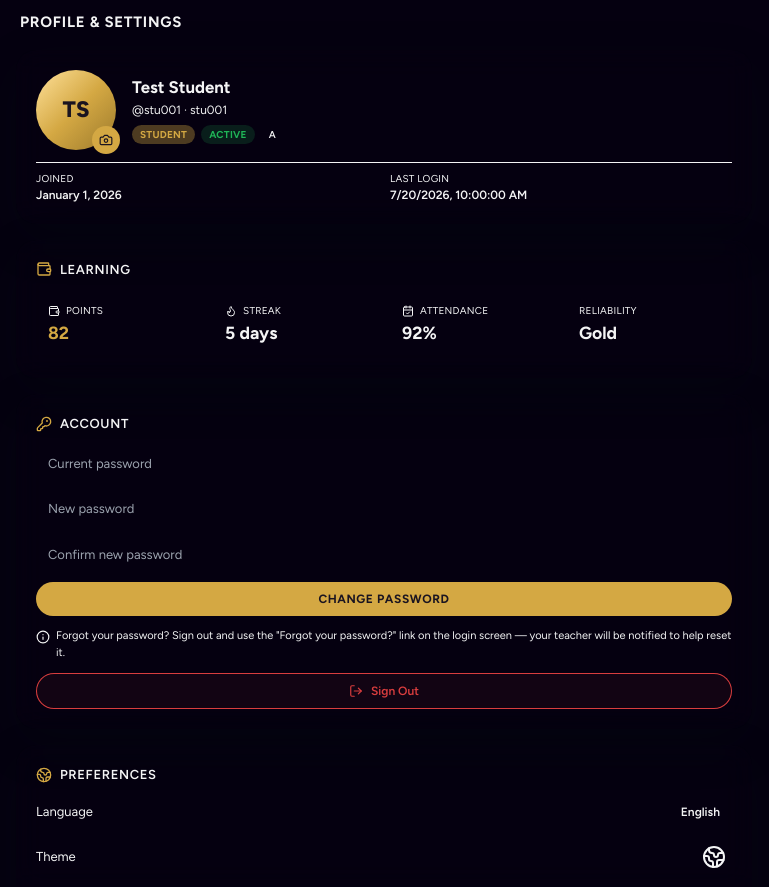
it: change-password form submits and shows a success toast on a valid match
Expected: the element with test id "profile-header-card" is shown, top-left (16, 50), bottom-right (752, 224)
Type "oldpass" into the password field with test id "profile-current-password-input" at (384, 464), box top-left (36, 446), bottom-right (732, 481)
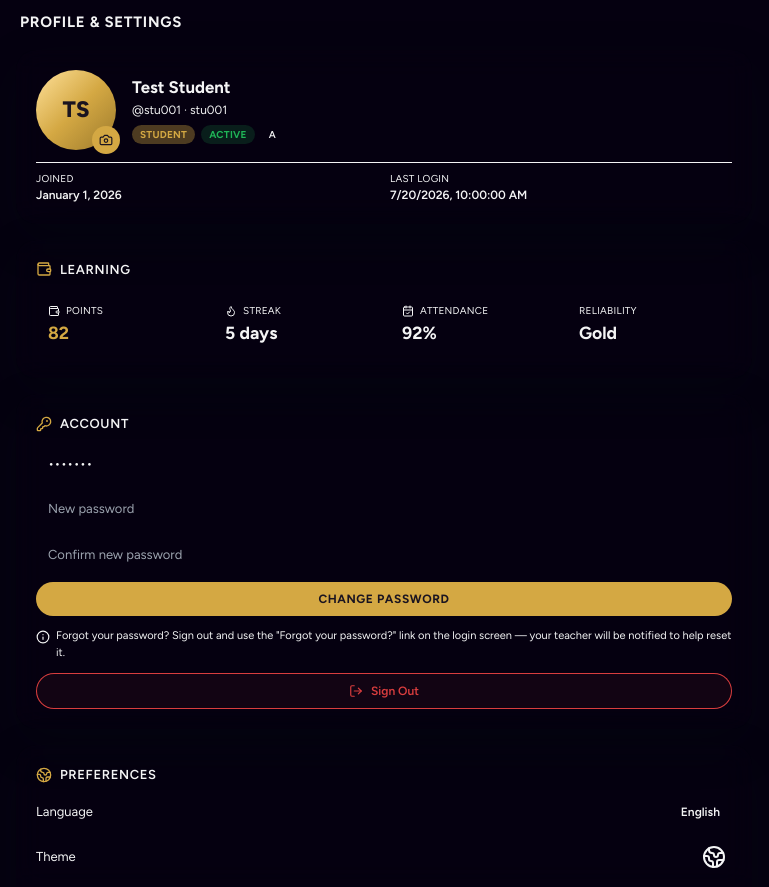
Type "newpass1" into the password field with test id "profile-new-password-input" at (384, 509), box top-left (36, 491), bottom-right (732, 527)
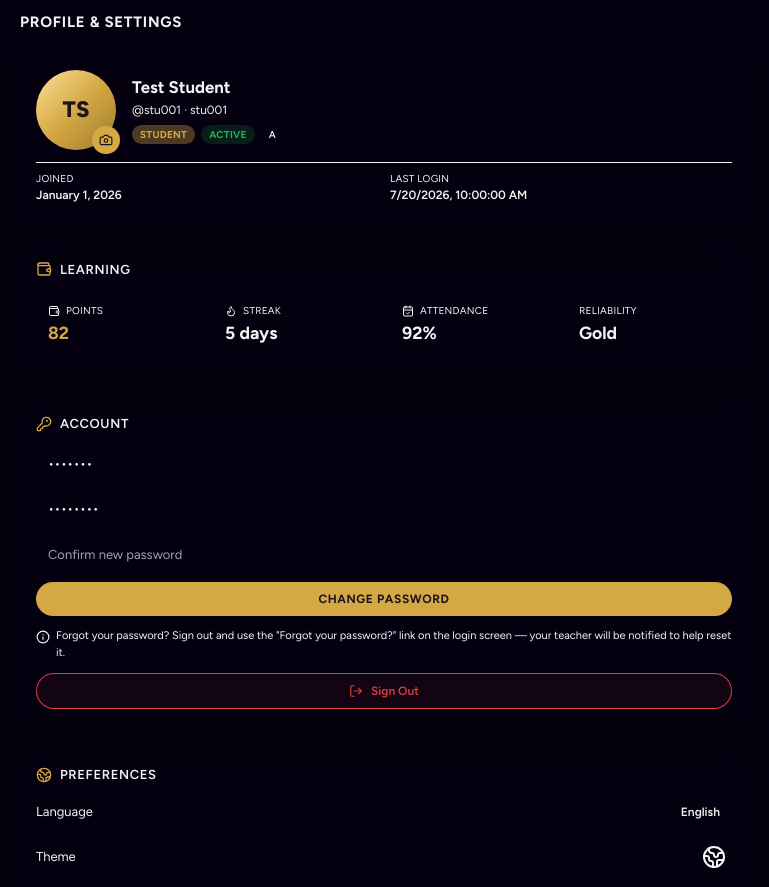
Type "newpass1" into the password field with test id "profile-confirm-password-input" at (384, 555), box top-left (36, 537), bottom-right (732, 572)
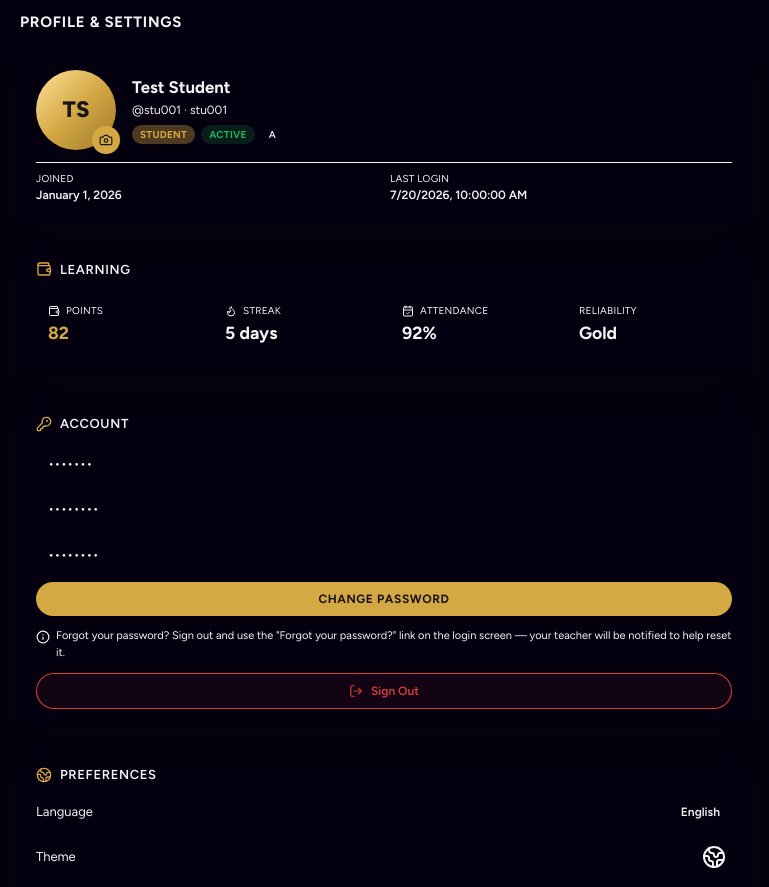
Click the button with test id "profile-change-password-submit" at (384, 599), box top-left (36, 582), bottom-right (732, 616)
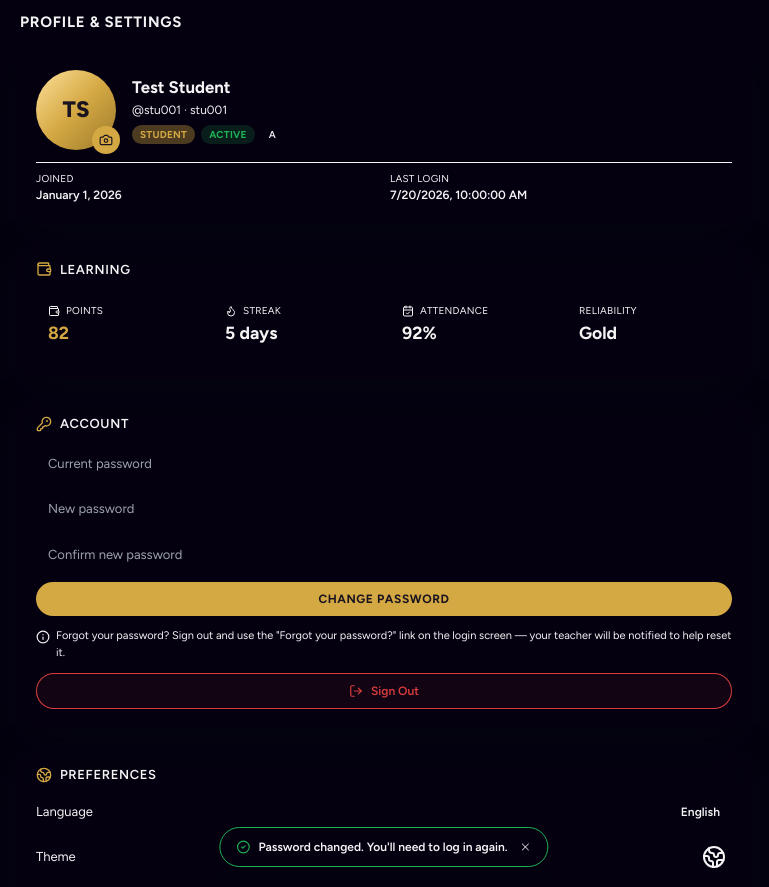
Now the message with test id "profile-toast" shows "Password changed", box top-left (258, 840), bottom-right (508, 854)
